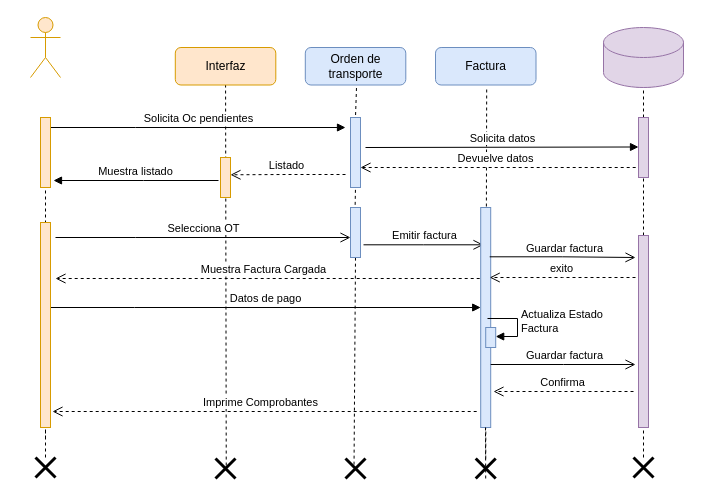
The diagram is 701 pixels wide and 497 high, and some of its shapes have lost their labels. The shapes that lost their labels are listed below. From the top down, each one's centre as x and y in pixels, then its label:
At [45,47]: "Asesor Comercial".
At [643,57]: "Base de Datos".
